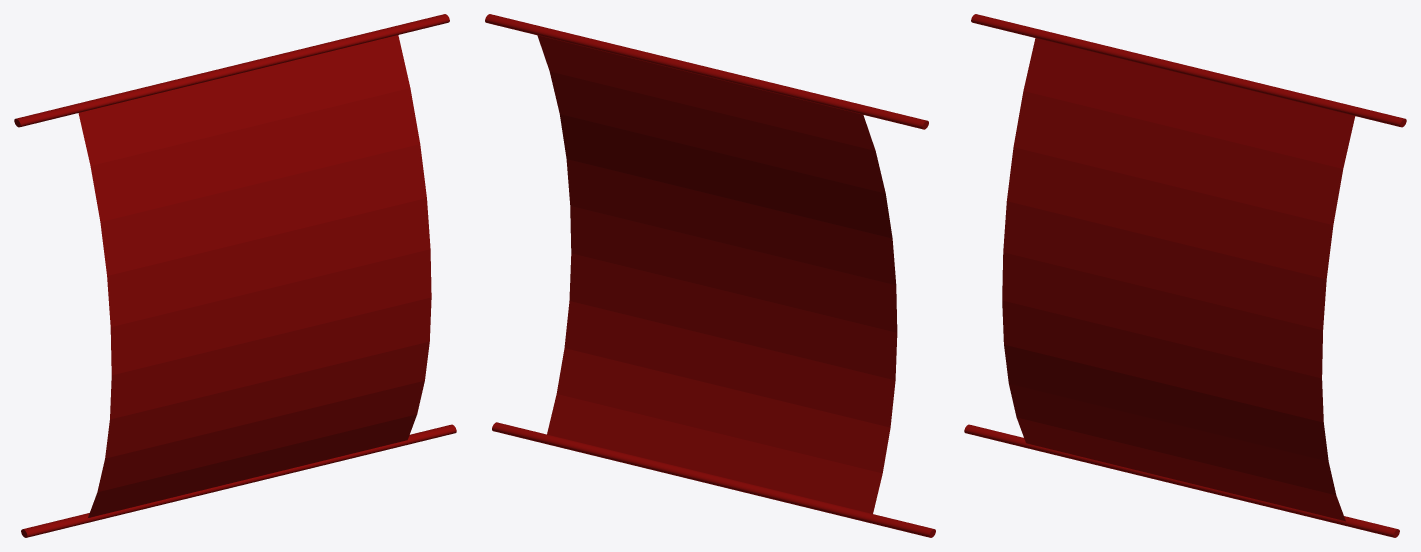
The model's file is Rojo7.fbx.
The picture shows the model from 3 angles, left to right: view 1: azimuth 30°, elevation 25°; view 2: azimuth 150°, elevation 25°; view 3: azimuth 330°, elevation 25°; orthographic projection.
Parts seen in each view (by area): view 1: Vela_Rojo; view 2: Vela_Rojo; view 3: Vela_Rojo.
Boxes of the visible parts, box(x1,y1,x2,y2) form: Vela_Rojo: box(14, 14, 456, 537); Vela_Rojo: box(485, 14, 935, 537); Vela_Rojo: box(964, 14, 1406, 537).
Bounding box in the file's own units: 5.88 × 5.41 × 0.8618.
